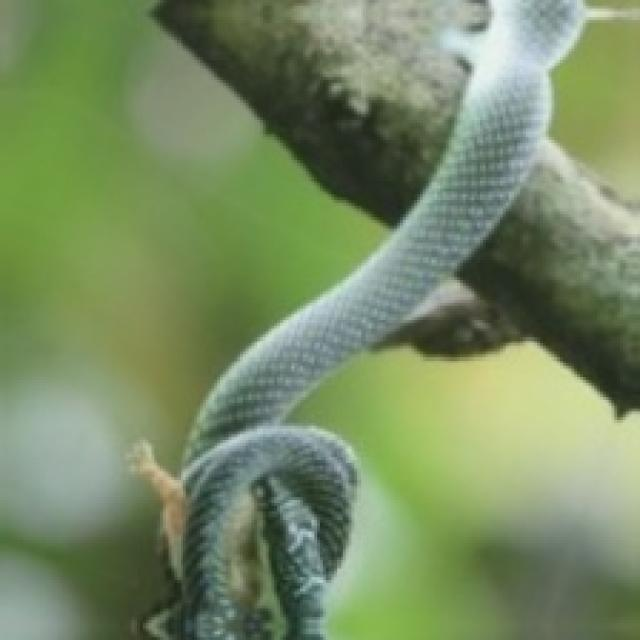paradise tree snake: (177, 0, 583, 637)
